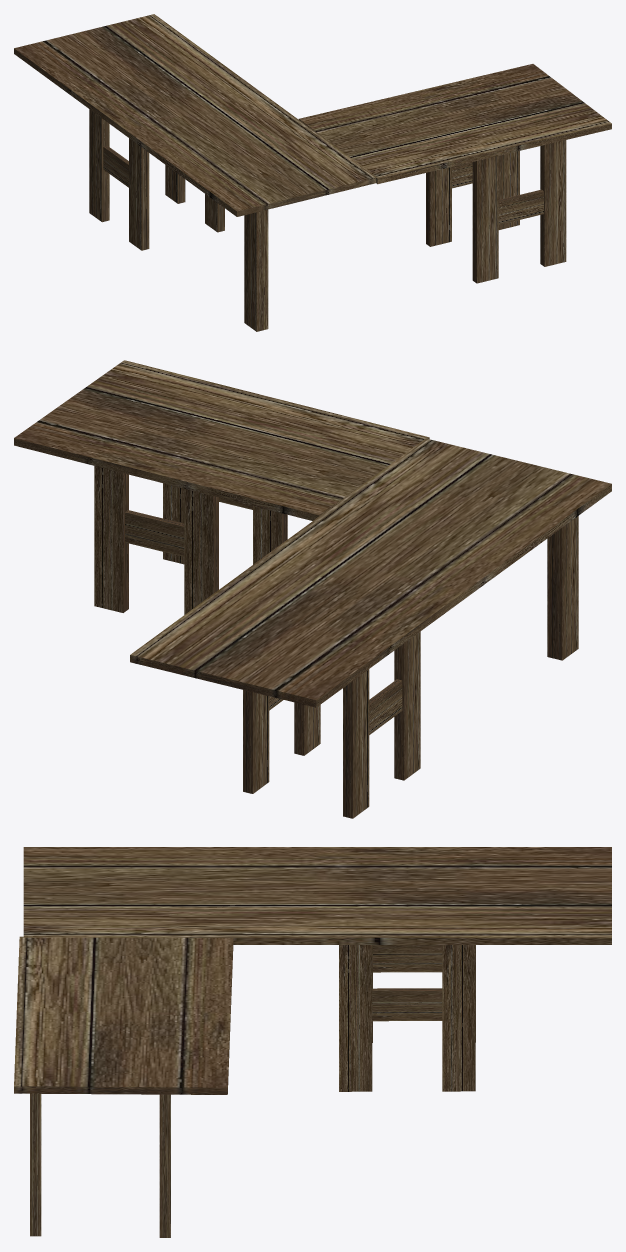
The model's file is escritorio.obj.
The picture shows the model from 3 angles, top to bottom: view 1: azimuth 30°, elevation 25°; view 2: azimuth 150°, elevation 25°; view 3: azimuth 270°, elevation 25°; orthographic projection. The views are drawn at different scales.
Parts seen in each view (by area): view 1: polySurface5; view 2: polySurface5; view 3: polySurface5.
Boxes of the visible parts, <box> form: polySurface5: <box>14,14,611,331</box>; polySurface5: <box>14,360,611,818</box>; polySurface5: <box>14,847,611,1237</box>.
Bounding box in the file's own units: 13.31 × 4.53 × 13.98.
Materials: 1 (1 with a texture image).
